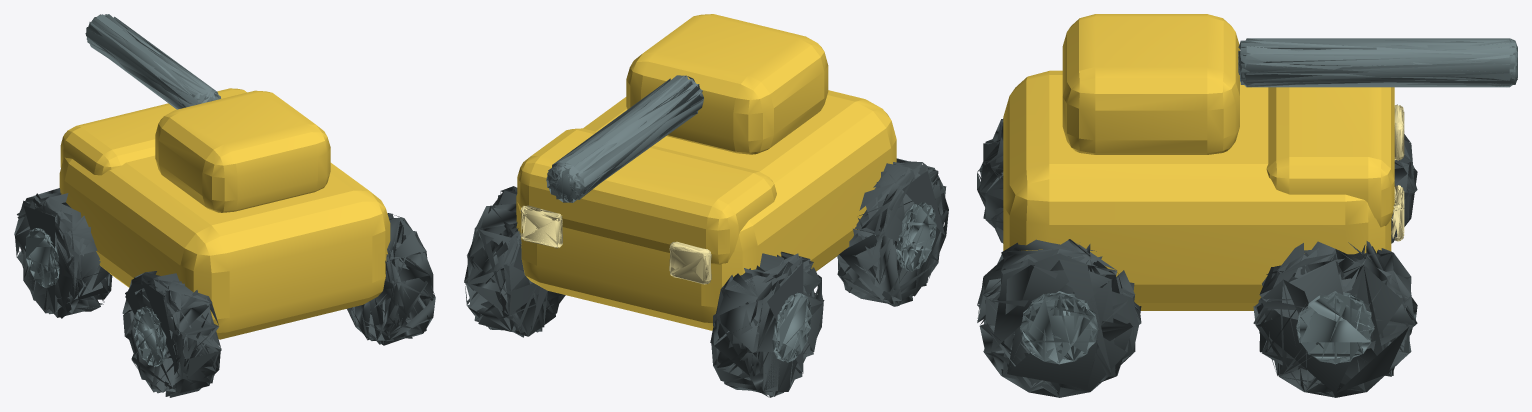
The model's file is rover.glb.
3 renders of one model, left to right at view 1: azimuth 30°, elevation 25°; view 2: azimuth 150°, elevation 25°; view 3: azimuth 270°, elevation 25°, orthographic. The views are drawn at different scales.
Visible parts, largest first — view 1: Hull, Turret, Wheel, Wheel.001, Wheel.002, Cannon, Bonnet, Hub.001, Hub; view 2: Hull, Turret, Bonnet, Wheel.001, Wheel, Wheel.003, Cannon, Hub, Hub.001, Headlamp, Headlamp.001; view 3: Hull, Turret, Wheel.002, Wheel.003, Bonnet, Cannon, Hub.002, Hub.003, Wheel, Wheel.001, Headlamp.001, Headlamp.
Boxes of the visible parts, <box> form: Hull: <box>59,155,390,339</box>; Turret: <box>155,90,330,212</box>; Wheel: <box>122,271,221,397</box>; Wheel.001: <box>14,188,112,318</box>; Wheel.002: <box>347,213,435,345</box>; Cannon: <box>85,14,220,109</box>; Bonnet: <box>60,88,246,175</box>; Hub.001: <box>25,228,59,288</box>; Hub: <box>133,306,167,367</box>; Hull: <box>516,90,896,330</box>; Turret: <box>626,14,828,154</box>; Bonnet: <box>517,128,776,264</box>; Wheel.001: <box>710,251,824,397</box>; Wheel: <box>837,158,948,306</box>; Wheel.003: <box>464,186,565,337</box>; Cannon: <box>546,75,703,202</box>; Hub: <box>896,202,936,271</box>; Hub.001: <box>772,292,812,362</box>; Headlamp: <box>669,241,711,284</box>; Headlamp.001: <box>520,205,562,248</box>; Hull: <box>1003,70,1391,310</box>; Turret: <box>1062,14,1239,154</box>; Wheel.002: <box>977,239,1141,397</box>; Wheel.003: <box>1253,241,1417,397</box>; Bonnet: <box>1266,87,1394,227</box>; Cannon: <box>1238,38,1517,87</box>; Hub.002: <box>1020,291,1098,364</box>; Hub.003: <box>1296,291,1374,364</box>; Wheel: <box>977,118,1003,243</box>; Wheel.001: <box>1391,134,1417,243</box>; Headlamp.001: <box>1391,185,1404,241</box>; Headlamp: <box>1394,104,1404,160</box>.
Bounding box in the file's own units: 1.18 × 0.945 × 1.64.
